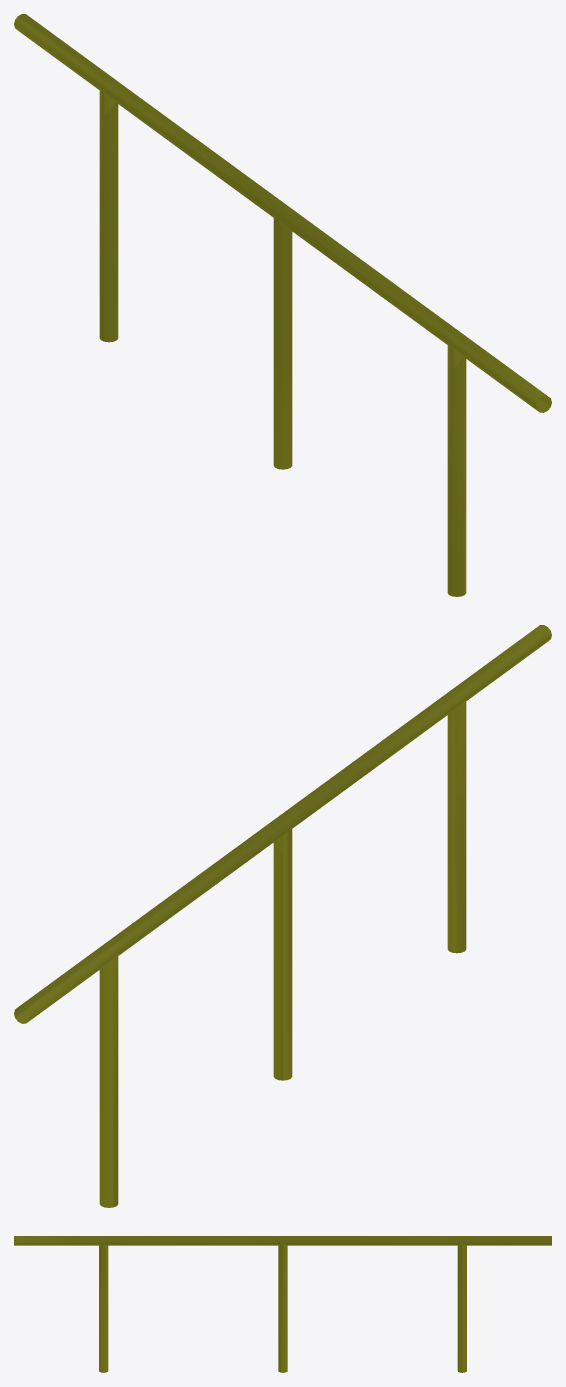
Rendered from Barrier.glb.
3 renders of one model, top to bottom at view 1: azimuth 30°, elevation 25°; view 2: azimuth 150°, elevation 25°; view 3: azimuth 270°, elevation 25°, orthographic. The views are drawn at different scales.
Visible parts, largest first — view 1: Plane.031; view 2: Plane.031; view 3: Plane.031.
Boxes of the visible parts, x1,y1,x2,y2 form: Plane.031: (14,14,551,596); Plane.031: (14,625,551,1207); Plane.031: (14,1236,551,1372).
Size of the model in its own units: 0.2 by 3.1 by 11.25.
